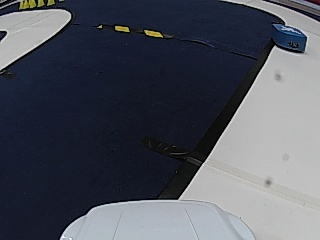prop: (273, 23, 306, 53)
